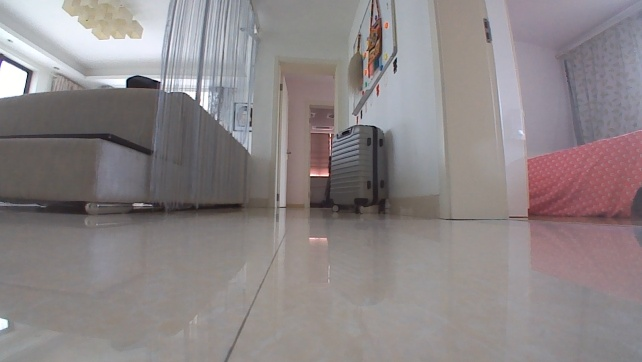bed1: (525, 127, 641, 220)
door_anno: (274, 70, 293, 213)
sofa1: (0, 82, 251, 211)
